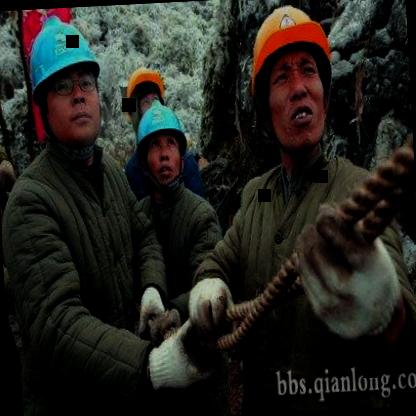helmet: (236, 0, 345, 159), (15, 6, 110, 158), (130, 100, 196, 194), (120, 63, 172, 126)
